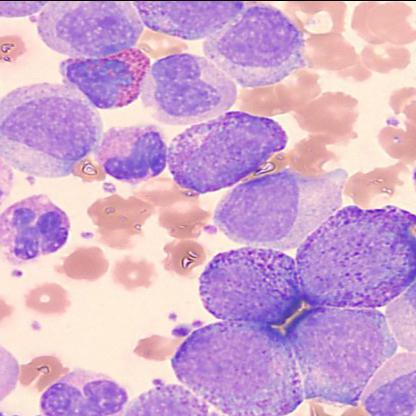Promyelocyte: (172, 314, 308, 415)
